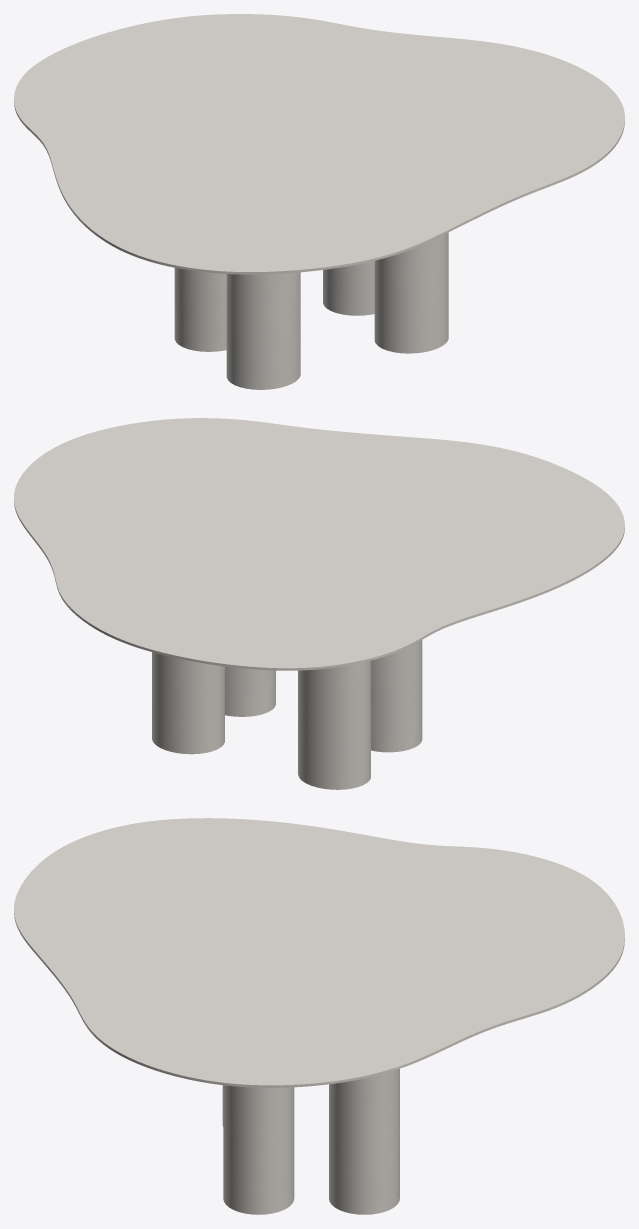
The model's file is pearlwhite_topone_facet_grove.glb.
3 renders of one model, top to bottom at view 1: azimuth 30°, elevation 25°; view 2: azimuth 150°, elevation 25°; view 3: azimuth 270°, elevation 25°, orthographic. The views are drawn at different scales.
Parts seen in each view (by area): view 1: facet_topone, grove; view 2: facet_topone, grove; view 3: facet_topone, grove.
Part boxes in pixels (bbox=[...]): facet_topone: bbox=[14, 14, 624, 274]; grove: bbox=[174, 232, 448, 389]; facet_topone: bbox=[14, 418, 624, 670]; grove: bbox=[152, 640, 422, 789]; facet_topone: bbox=[14, 818, 624, 1087]; grove: bbox=[222, 1069, 399, 1214].
Bounding box in the file's own units: 6.83 × 2.51 × 6.6.
1 material, 1 textured.
